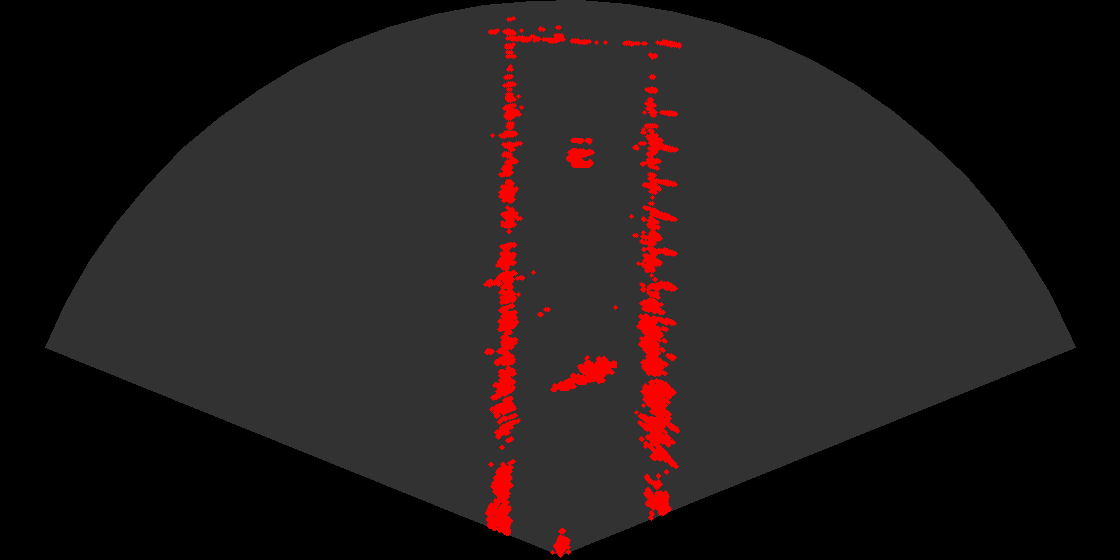ball: (546, 130, 606, 171)
frogman: (549, 349, 617, 396)
